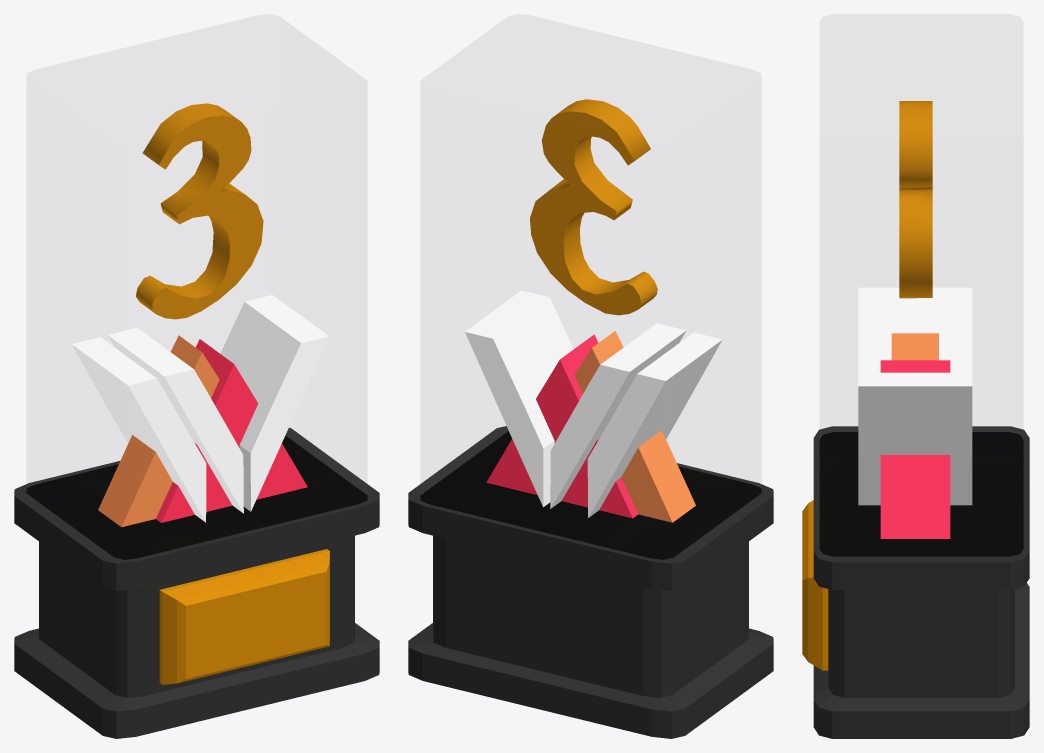
3 renders of one model, left to right at view 1: azimuth 30°, elevation 25°; view 2: azimuth 150°, elevation 25°; view 3: azimuth 270°, elevation 25°, orthographic.
Visible parts, largest first — view 1: IWBTrophyBronze, IWBTrophyBronzeNumber; view 2: IWBTrophyBronze, IWBTrophyBronzeNumber; view 3: IWBTrophyBronze, IWBTrophyBronzeNumber.
Part boxes in pixels (x1,y1,x2,y2): IWBTrophyBronze: (14, 295, 379, 738); IWBTrophyBronzeNumber: (136, 103, 263, 319); IWBTrophyBronze: (408, 290, 773, 738); IWBTrophyBronzeNumber: (530, 99, 657, 315); IWBTrophyBronze: (802, 287, 1029, 738); IWBTrophyBronzeNumber: (899, 101, 932, 298).
Size of what is drawn, in the model's own units: 1.18 by 2.4 by 0.8324.
3 materials, 3 textured.
